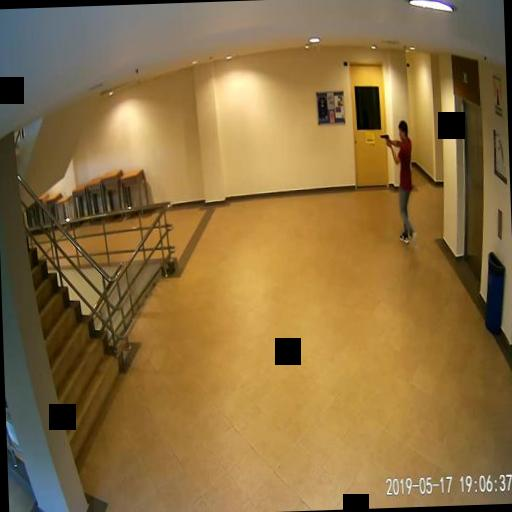Handgun: (379, 132, 388, 142)
